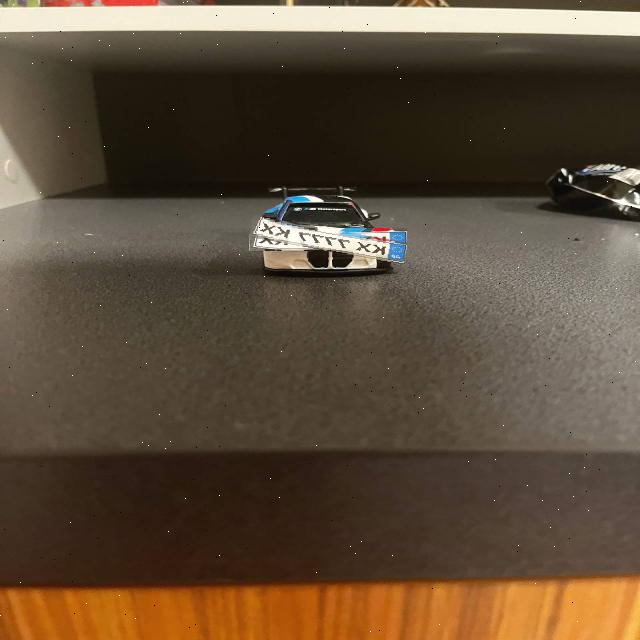KX 7777 KX: (250, 217, 407, 264)
